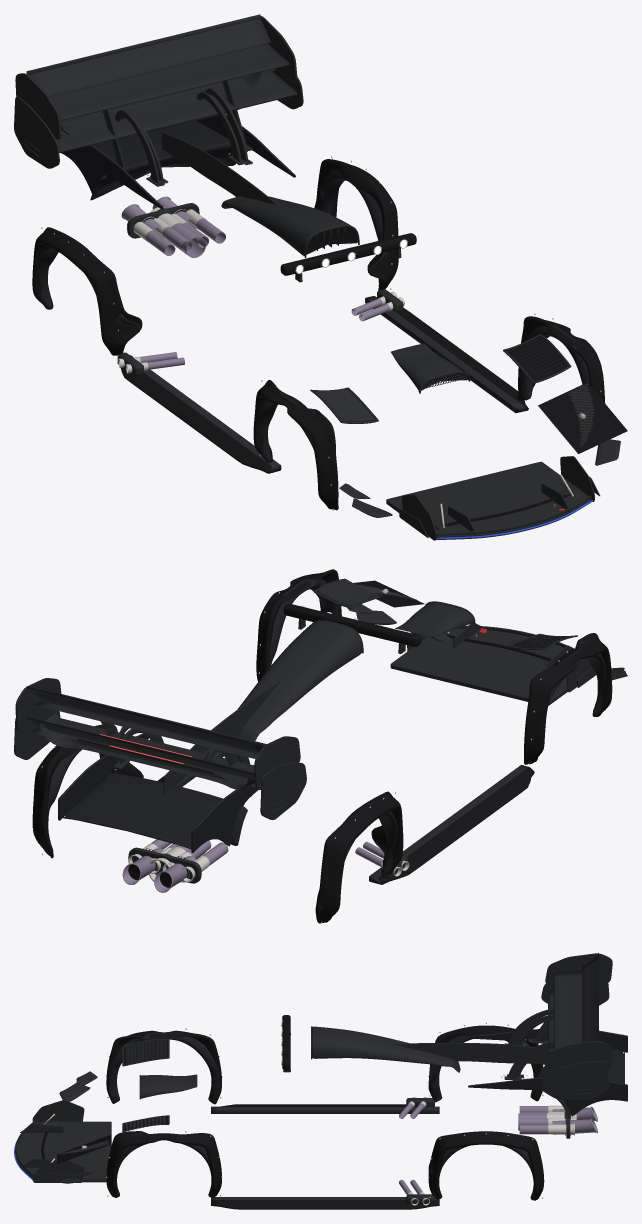
The model's file is aurora-works.glb.
The picture shows the model from 3 angles, top to bottom: view 1: azimuth 30°, elevation 25°; view 2: azimuth 150°, elevation 25°; view 3: azimuth 270°, elevation 25°; orthographic projection. The views are drawn at different scales.
Visible parts, largest first — view 1: Works_front_gt3_blade, Works_wing_drift_flap, Works_wing_drift_main, Works_wing_gt3_main, Works_kit_fenders_flareR-1, Works_kit_fenders_flareF-1, Works_roof_scoop_shell, Works_lights_oneeye_back, Works_wing_longtail_tail, Works_kit_fenders_flareR1, Works_kit_fenders_skirt-1, Works_roof_fin_fin (+24 smaller); view 2: Works_front_gt3_blade, Works_wing_longtail_tail, Works_roof_scoop_shell, Works_kit_fenders_flareR-1, Works_kit_fenders_flareF-1, Works_kit_fenders_skirt-1, Works_kit_fenders_flareR1, Works_wing_gt3_endplate-1, Works_wing_drift_flap, Works_kit_fenders_flareF1, Works_wing_drift_main, Works_wing_longtail_fin-1 (+25 smaller); view 3: Works_front_gt3_blade, Works_roof_scoop_shell, Works_kit_fenders_flareR1, Works_kit_fenders_flareF1, Works_wing_drift_main, Works_wing_gt3_endplate1, Works_roof_fin_fin, Works_kit_fenders_skirt1, Works_kit_wide_skirt-1, Works_wing_drift_endplate1, Works_kit_fenders_flareF-1, Works_kit_wide_flareF-1 (+22 smaller).
Boxes of the visible parts, x1,y1,x2,y2 form: Works_front_gt3_blade: (386,461,591,540); Works_wing_drift_flap: (28,18,271,96); Works_wing_drift_main: (49,43,289,121); Works_wing_gt3_main: (56,71,297,152); Works_kit_fenders_flareR-1: (32,227,142,355); Works_kit_fenders_flareF-1: (253,380,338,510); Works_roof_scoop_shell: (221,196,357,255); Works_lights_oneeye_back: (538,382,627,453); Works_wing_longtail_tail: (93,121,230,187); Works_kit_fenders_flareR1: (314,159,398,290); Works_kit_fenders_skirt-1: (117,362,280,473); Works_roof_fin_fin: (162,132,277,204); Works_front_gt3_blade: (390,628,567,705); Works_wing_longtail_tail: (64,773,222,847); Works_roof_scoop_shell: (235,621,362,740); Works_kit_fenders_flareR-1: (315,791,403,923); Works_kit_fenders_flareF-1: (524,633,612,764); Works_kit_fenders_skirt-1: (369,767,534,884); Works_kit_fenders_flareR1: (32,724,143,858); Works_wing_gt3_endplate-1: (260,762,306,820); Works_wing_drift_flap: (27,690,262,753); Works_kit_fenders_flareF1: (256,569,341,681); Works_wing_drift_main: (34,692,266,758); Works_wing_longtail_fin-1: (191,786,258,852); Works_front_gt3_blade: (15,1121,111,1182); Works_roof_scoop_shell: (312,1026,460,1072); Works_kit_fenders_flareR1: (428,1131,544,1200); Works_kit_fenders_flareF1: (106,1131,221,1197); Works_wing_drift_main: (553,971,582,1050); Works_wing_gt3_endplate1: (541,1061,609,1100); Works_roof_fin_fin: (394,1043,547,1064); Works_kit_fenders_skirt1: (211,1200,439,1209); Works_kit_wide_skirt-1: (211,1107,439,1113); Works_wing_drift_endplate1: (545,1041,612,1072); Works_kit_fenders_flareF-1: (106,1030,221,1104); Works_kit_wide_flareF-1: (109,1032,220,1102).
Bounding box in the file's own units: 2.39 × 1.56 × 5.38.
